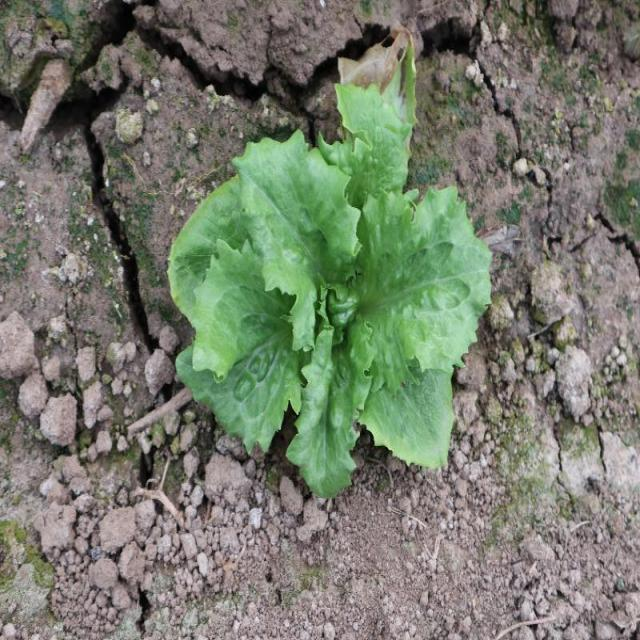crop: (170, 91, 493, 494)
